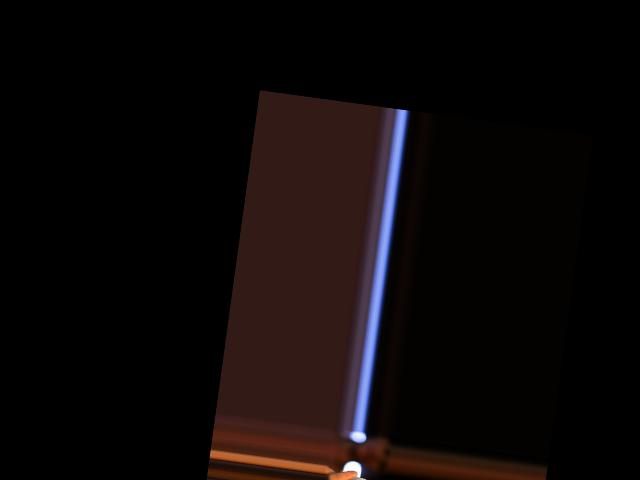egg: (338, 474, 376, 480)
